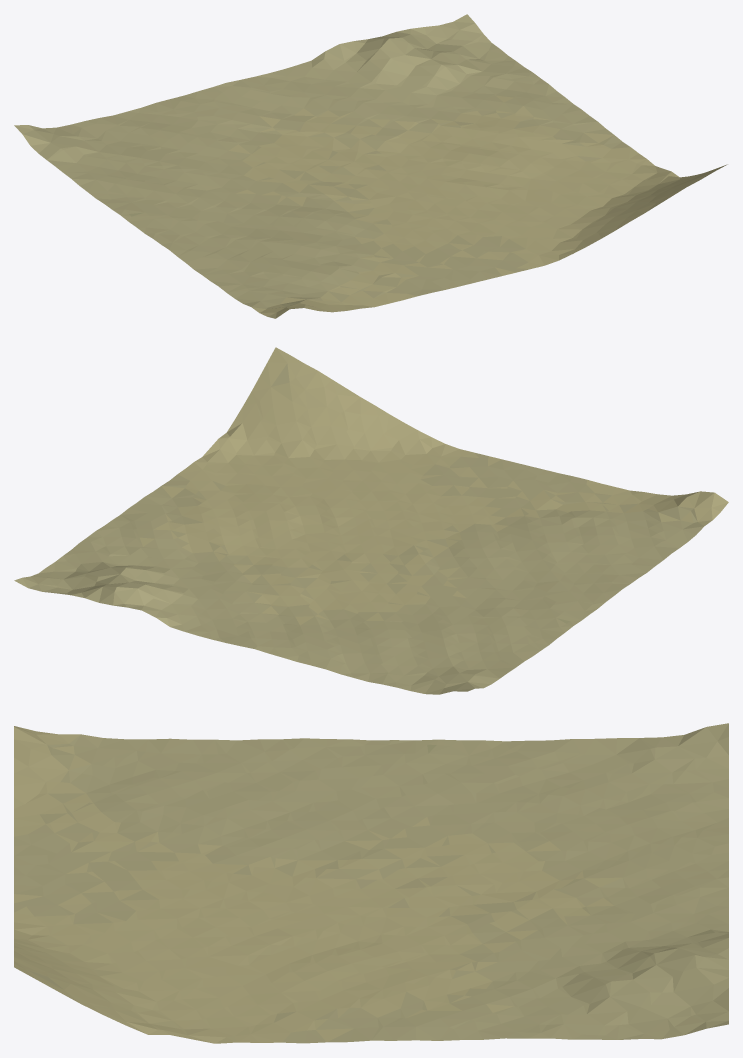
The model's file is Ground_2_0.glb.
3 views of the same model, one above another, from view 1: azimuth 30°, elevation 25°; view 2: azimuth 150°, elevation 25°; view 3: azimuth 270°, elevation 25° (orthographic). The views are drawn at different scales.
Visible parts, largest first — view 1: Ground_2_0; view 2: Ground_2_0; view 3: Ground_2_0.
Part boxes in pixels (x1=…): Ground_2_0: x1=14, y1=14, x2=727, y2=318; Ground_2_0: x1=14, y1=347, x2=728, y2=694; Ground_2_0: x1=14, y1=723, x2=728, y2=1043.
Bounding box in the file's own units: 768 × 92.16 × 768.
